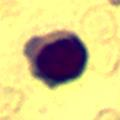lymphocyte: (23, 26, 89, 89)
